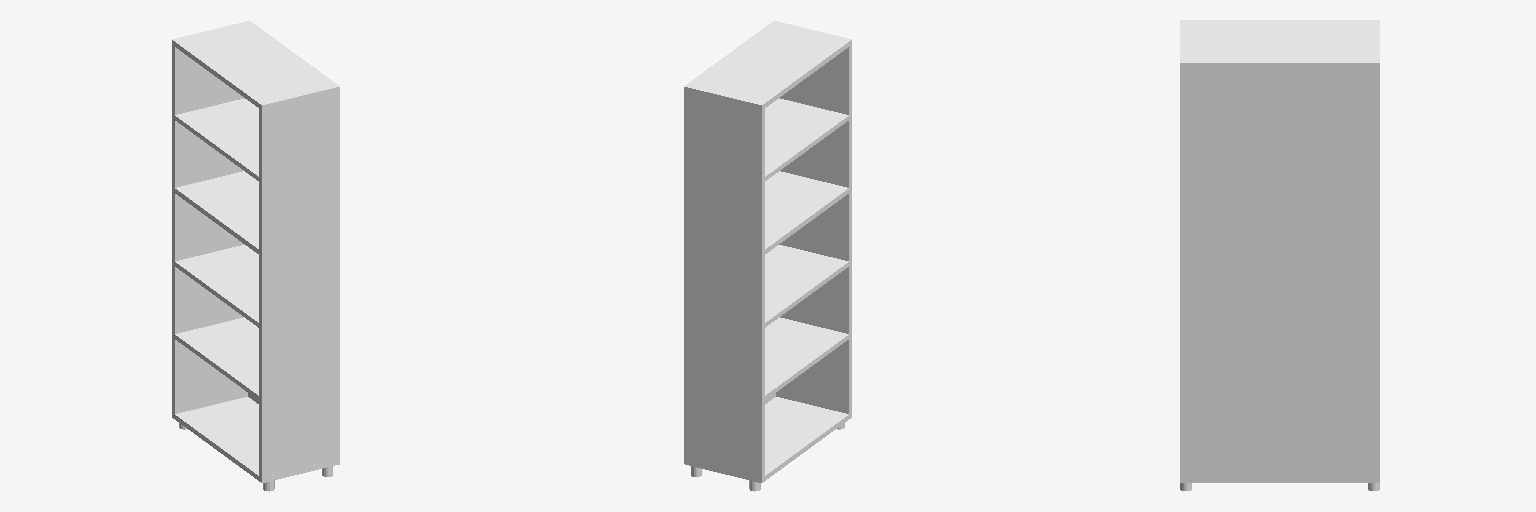
URDF robot description (sunban):
<?xml version="1.0" ?>
<robot name="sunban">
  <link name="sunbanLink">
  <contact>
      <lateral_friction value="1"/>
  </contact>
    <inertial>
      <origin rpy="0 0 0" xyz="0 0 0"/>
       <mass value=".0"/>
       <inertia ixx="0" ixy="0" ixz="0" iyy="0" iyz="0" izz="0"/>
    </inertial>
    <visual>
      <origin rpy="1.570796 0 -1.570796" xyz="0 0 0"/>
      <geometry>
		<mesh filename="sunban.obj" scale="0.01 0.01 0.01"/>
      </geometry>
       <material name="white">
        <color rgba="1 1 1 1"/>
      </material>
    </visual>
    <collision>
      <origin rpy="1.570796 0 -1.570796" xyz="0 0 0"/>
      <geometry>
		<mesh filename="sunban.obj" scale="0.01 0.01 0.01"/>
      </geometry>
    </collision>
  </link>
</robot>

--- Facts derived from the render (not from the file) ---
The picture shows the robot from 3 angles, left to right: view 1: azimuth 30°, elevation 25°; view 2: azimuth 150°, elevation 25°; view 3: azimuth 270°, elevation 25°; orthographic projection.
Robot: sunban — 1 links, 0 joints (none); root link sunbanLink; default pose: all joints at 0.
Links seen in each view (by area): view 1: sunbanLink; view 2: sunbanLink; view 3: sunbanLink.
Boxes of the visible links, left/top/right/bottom form: sunbanLink: left=172, top=21, right=339, bottom=491; sunbanLink: left=684, top=21, right=851, bottom=491; sunbanLink: left=1180, top=20, right=1379, bottom=490.
Bounding box of the posed robot: 0.4 × 0.8003 × 1.9 m (x, y, z).
1 mesh visuals loaded from 1 distinct referenced files (1 OBJ).
